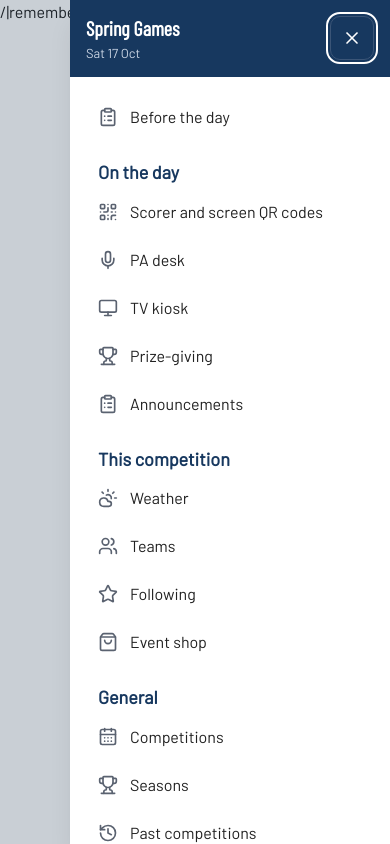
Test: NavigationDrawer: On the day › opens the QR codes sheet from Scorer and screen QR codes
The image size is (390, 844).
Expected: the dialog "Share with QR codes" is not shown
Click the button "Scorer and screen QR codes" at (230, 212), box [86, 188, 374, 236]
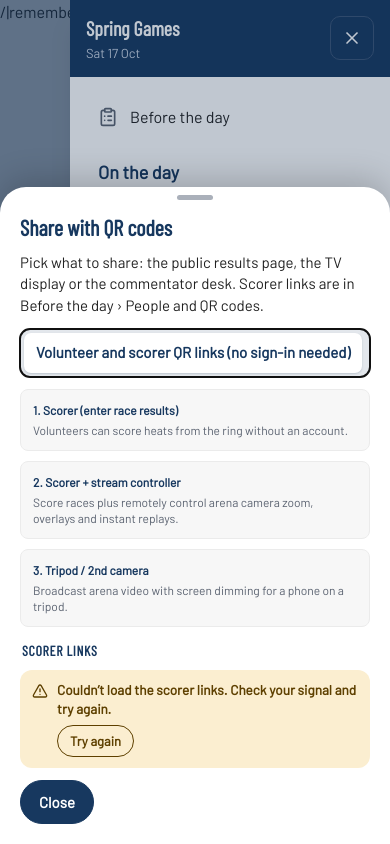
Result: the dialog "Share with QR codes" is shown
